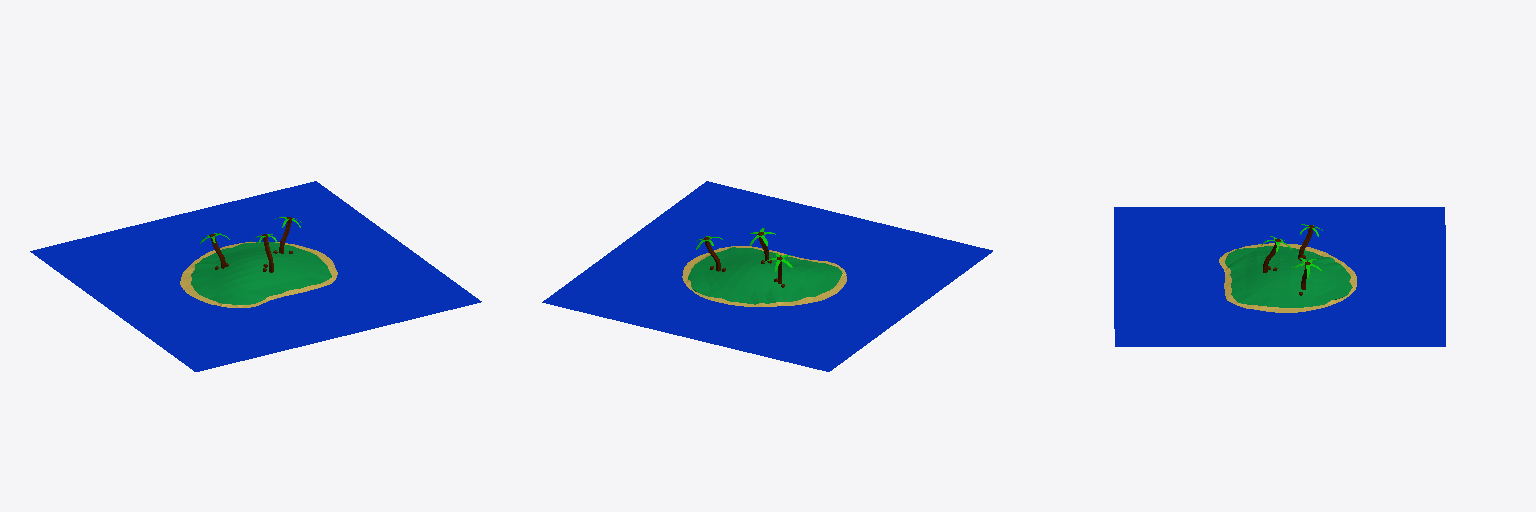
Rendered from isla.obj.
3 renders of one model, left to right at view 1: azimuth 30°, elevation 25°; view 2: azimuth 150°, elevation 25°; view 3: azimuth 270°, elevation 25°, orthographic.
Parts seen in each view (by area): view 1: Cylinder.002; view 2: Cylinder.002; view 3: Cylinder.002.
Part boxes in pixels (x1,y1,x2,y2): Cylinder.002: (30, 181, 481, 371); Cylinder.002: (542, 181, 992, 371); Cylinder.002: (1114, 207, 1445, 346).
Bounding box in the file's own units: 114 × 15.69 × 114.